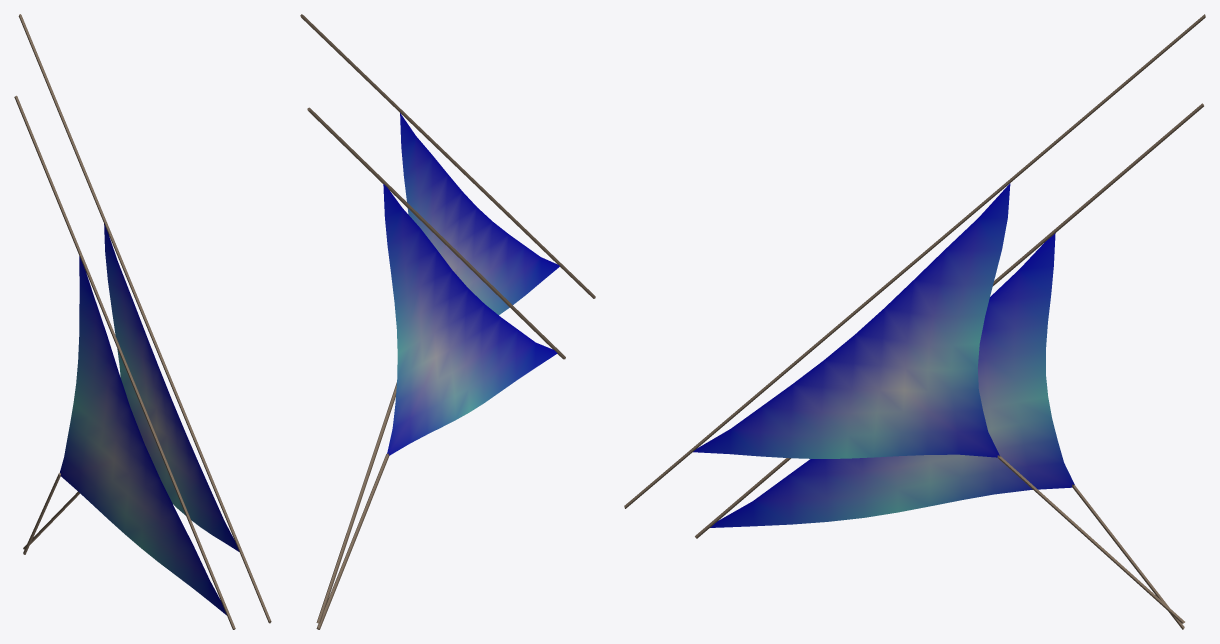
File: SM_Veh_Ship_S_Rigging_Front_01.fbx
3 views of the same model, side by side, from view 1: azimuth 30°, elevation 25°; view 2: azimuth 150°, elevation 25°; view 3: azimuth 270°, elevation 25° (orthographic). The views are drawn at different scales.
Parts seen in each view (by area): view 1: SM_Veh_Ship_S_Rigging_Front_01; view 2: SM_Veh_Ship_S_Rigging_Front_01; view 3: SM_Veh_Ship_S_Rigging_Front_01.
Boxes of the visible parts, bbox=[...] form: SM_Veh_Ship_S_Rigging_Front_01: bbox=[14, 14, 271, 629]; SM_Veh_Ship_S_Rigging_Front_01: bbox=[300, 14, 595, 629]; SM_Veh_Ship_S_Rigging_Front_01: bbox=[624, 14, 1205, 629].
Size of the model in its own units: 82.08 by 1644 by 1401.
